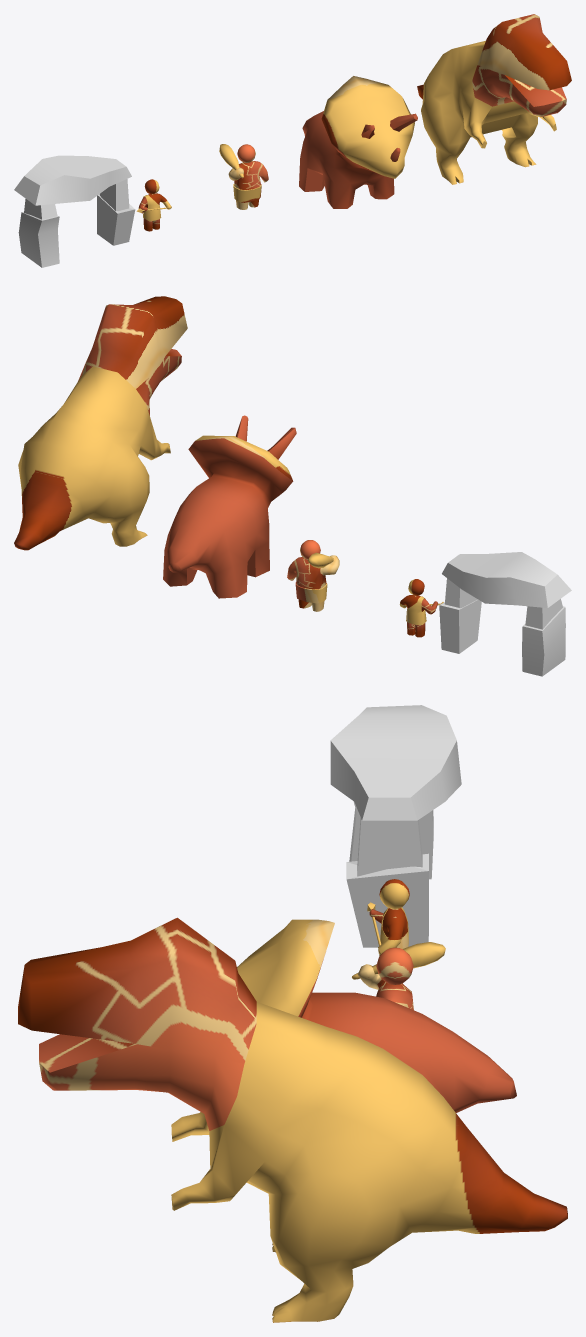
Rendered from DianoEraModel.fbx.
The picture shows the model from 3 angles, top to bottom: view 1: azimuth 30°, elevation 25°; view 2: azimuth 150°, elevation 25°; view 3: azimuth 270°, elevation 25°; orthographic projection. The views are drawn at different scales.
Visible parts, largest first — view 1: Rex, Tri, Box001, Bhum, Shum; view 2: Rex, Tri, Box001, Bhum, Shum; view 3: Rex, Box001, Tri, Bhum, Shum.
Part boxes in pixels (x1,y1,x2,y2): Rex: [417, 14, 571, 184]; Tri: [299, 76, 417, 208]; Box001: [14, 155, 135, 267]; Bhum: [219, 144, 268, 209]; Shum: [136, 179, 171, 231]; Rex: [14, 296, 187, 550]; Tri: [163, 415, 296, 598]; Box001: [439, 552, 571, 676]; Bhum: [287, 540, 339, 611]; Shum: [399, 579, 443, 637]; Rex: [18, 917, 567, 1322]; Box001: [330, 705, 461, 947]; Tri: [237, 919, 516, 1112]; Bhum: [352, 942, 445, 1009]; Shum: [367, 879, 409, 956].
Size of the model in its own units: 1748 by 599 by 849.
